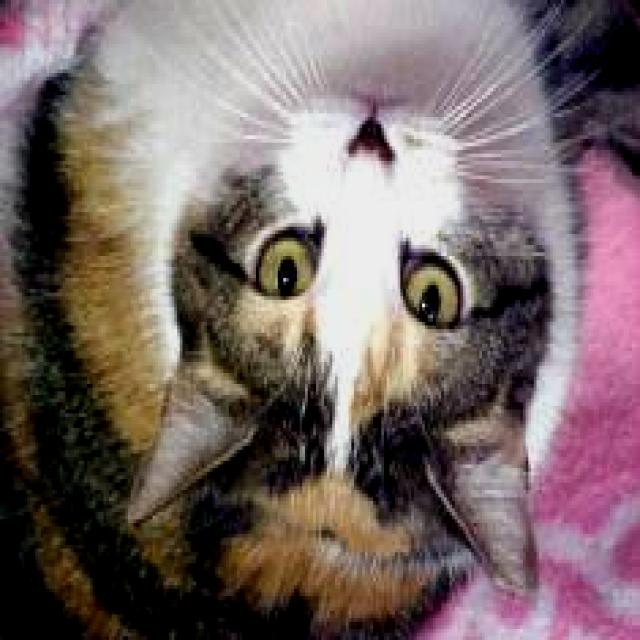Kucing: (67, 44, 616, 614)
